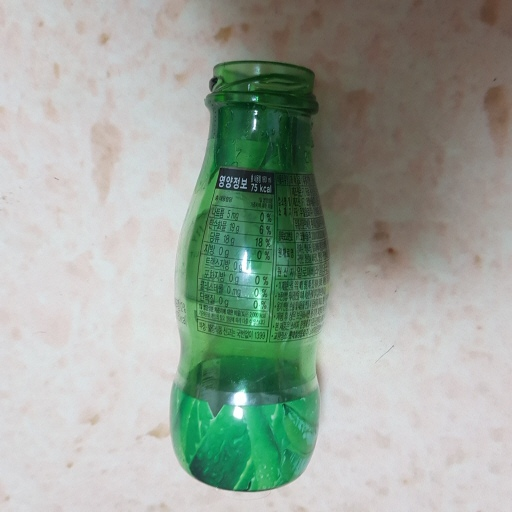Glass_4: (166, 59, 337, 492)
